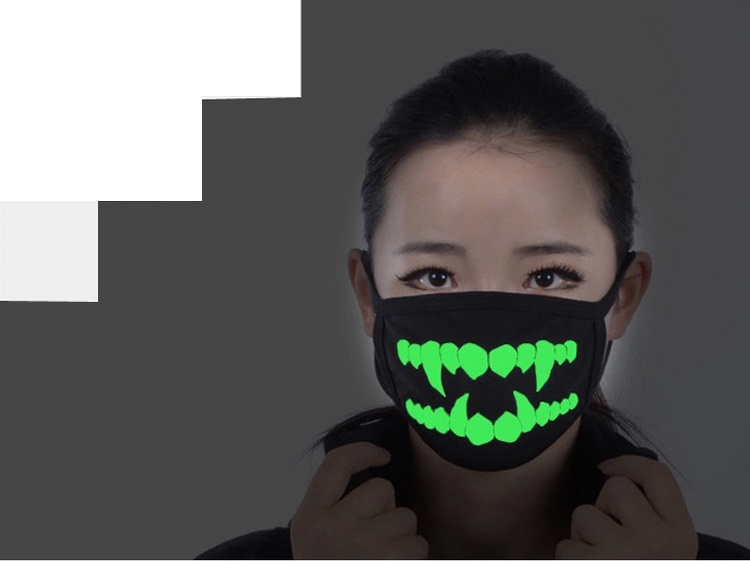face_mask: (372, 144, 621, 440)
